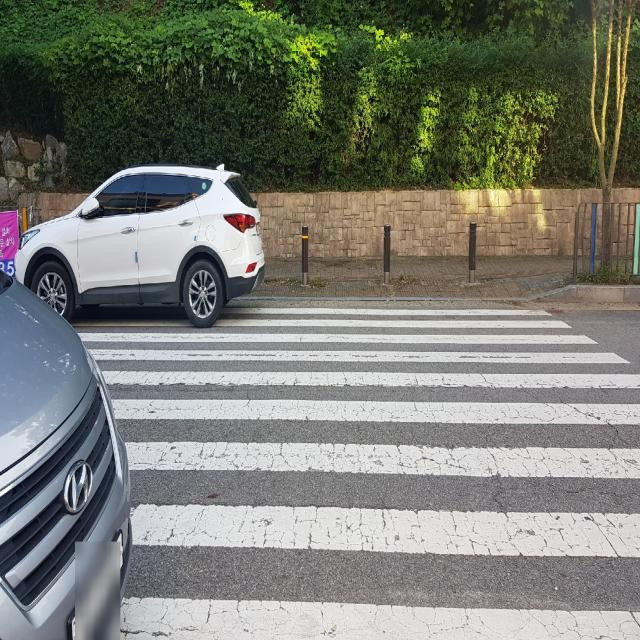횡단보도: (77, 308, 640, 640)
